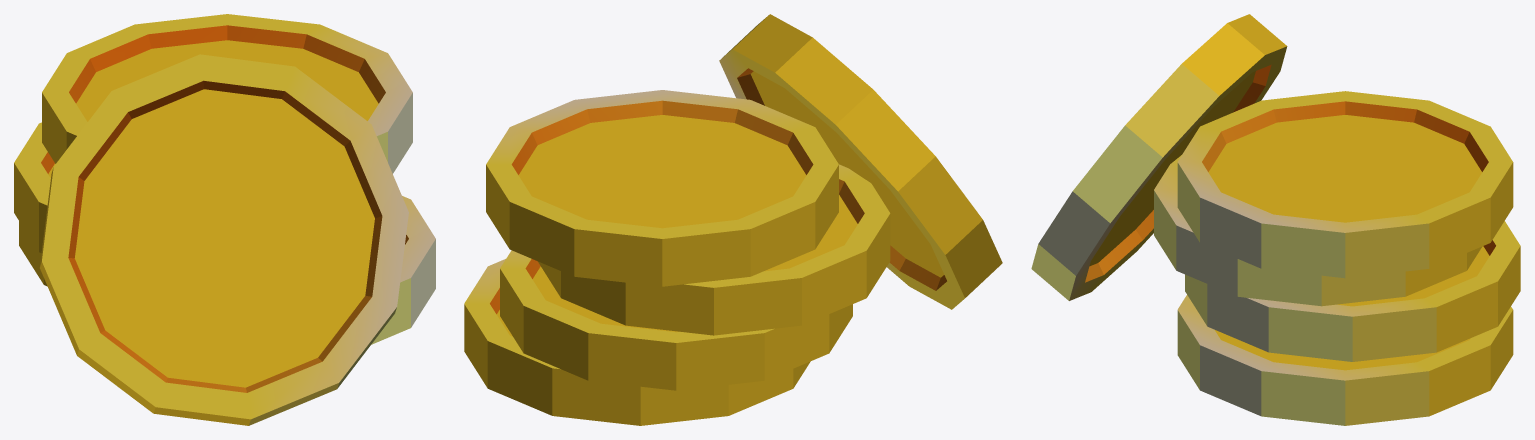
The model's file is collectable_coins.fbx.
3 renders of one model, left to right at view 1: azimuth 30°, elevation 25°; view 2: azimuth 150°, elevation 25°; view 3: azimuth 270°, elevation 25°, orthographic. The views are drawn at different scales.
Parts seen in each view (by area): view 1: quest_coins; view 2: quest_coins; view 3: quest_coins.
Boxes of the visible parts, bbox=[...] form: quest_coins: bbox=[14, 14, 435, 425]; quest_coins: bbox=[464, 14, 1002, 425]; quest_coins: bbox=[1031, 14, 1520, 425].
Bounding box in the file's own units: 0.1399 × 0.0933 × 0.1472.
